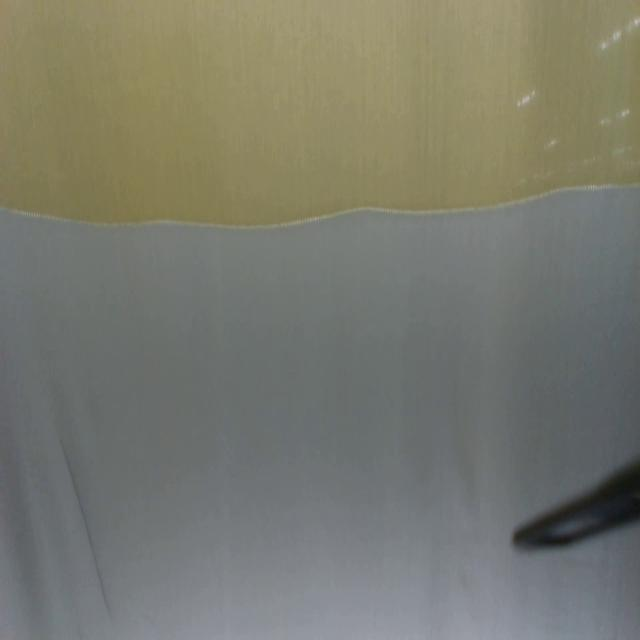crease: (54, 429, 114, 625)
